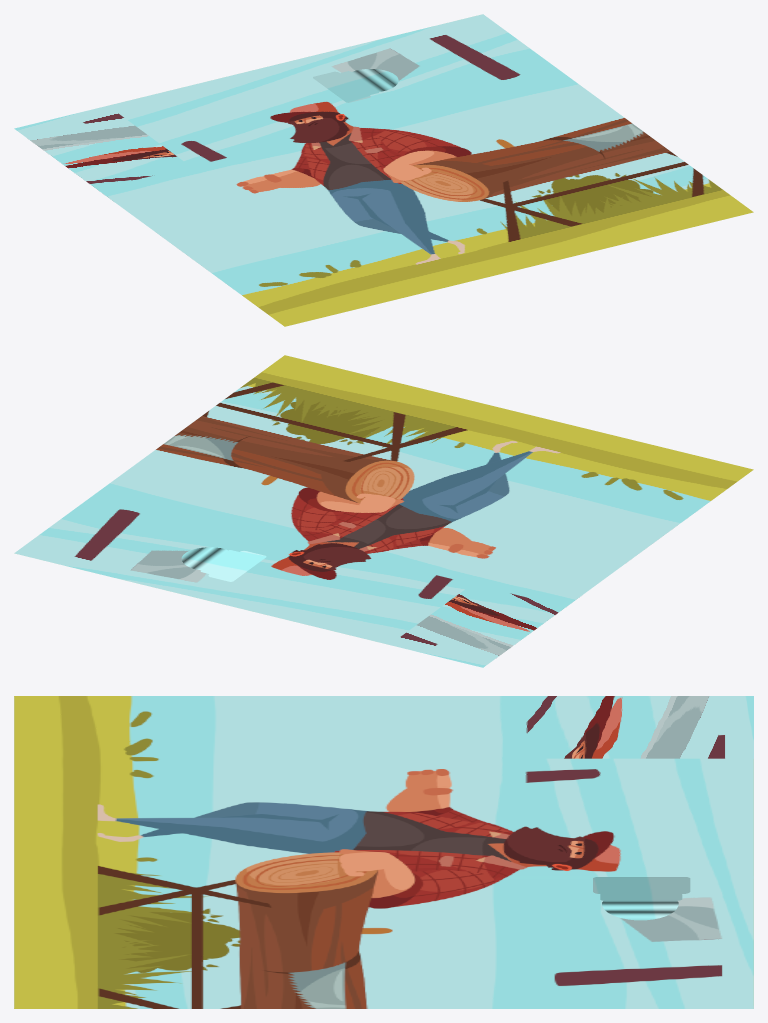
The picture shows the model from 3 angles, top to bottom: view 1: azimuth 30°, elevation 25°; view 2: azimuth 150°, elevation 25°; view 3: azimuth 270°, elevation 25°; orthographic projection. The views are drawn at different scales.
Parts seen in each view (by area): view 1: Mesh, pipe, telescope; view 2: Mesh, pipe, telescope; view 3: Mesh, pipe, telescope.
Part boxes in pixels (x1,y1,x2,y2): Mesh: (14, 14, 753, 326); pipe: (27, 71, 389, 202); telescope: (313, 69, 398, 102); Mesh: (14, 355, 753, 667); pipe: (222, 526, 584, 658); telescope: (181, 547, 266, 581); Mesh: (14, 696, 753, 1008); pipe: (476, 696, 718, 878); telescope: (593, 877, 690, 920).
Bounding box in the file's own units: 2400 × 7.68 × 2400.
